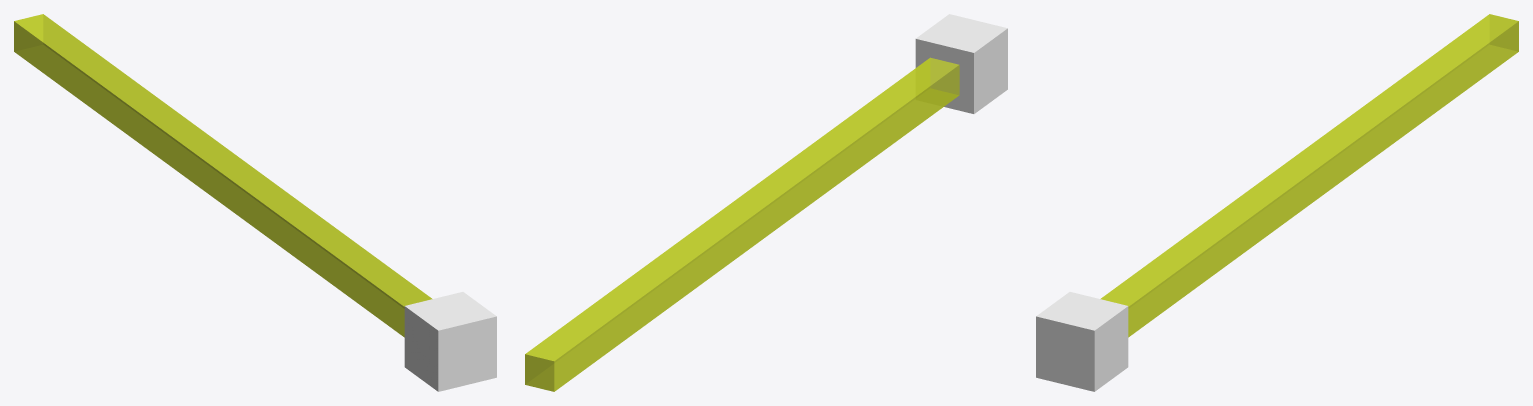
The model's file is Landmark.gltf.
3 views of the same model, side by side, from view 1: azimuth 30°, elevation 25°; view 2: azimuth 150°, elevation 25°; view 3: azimuth 330°, elevation 25° (orthographic).
Visible parts, largest first — view 1: 立方体, 立方体.001; view 2: 立方体, 立方体.001; view 3: 立方体, 立方体.001.
Boxes of the visible parts, bbox=[...] form: 立方体: bbox=[14, 14, 432, 337]; 立方体.001: bbox=[404, 292, 496, 391]; 立方体: bbox=[525, 57, 959, 391]; 立方体.001: bbox=[915, 14, 1007, 113]; 立方体: bbox=[1100, 14, 1518, 337]; 立方体.001: bbox=[1036, 292, 1128, 391].
Size of the model in its own units: 0.2 by 0.2 by 2.6.
